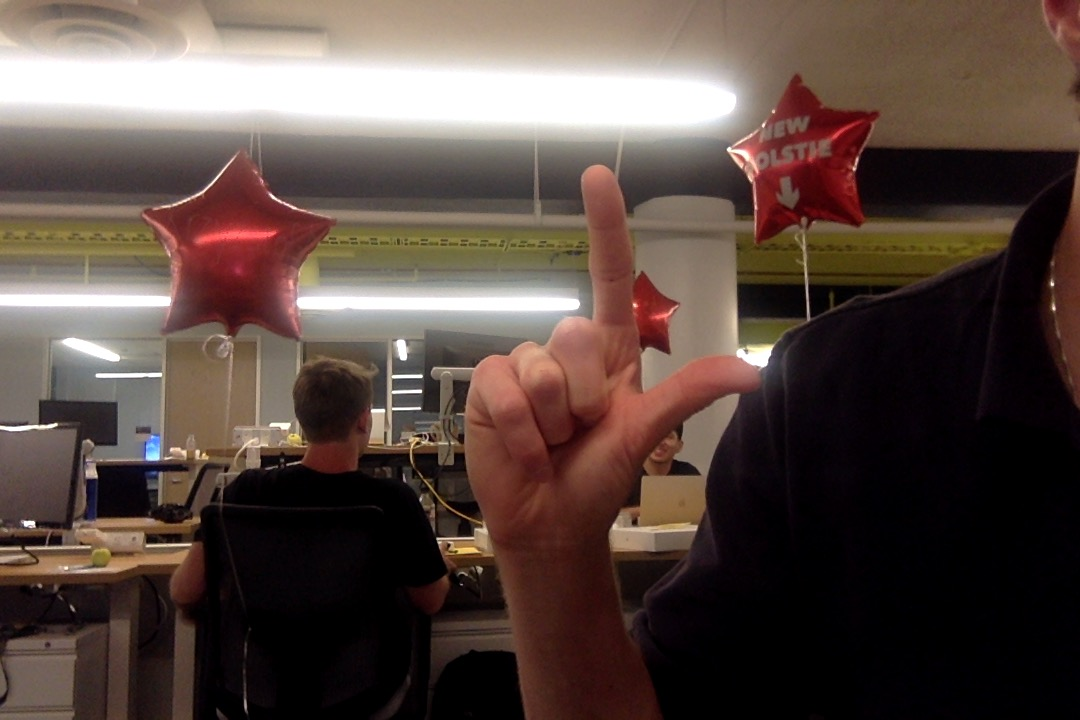l: (459, 155, 766, 556)
